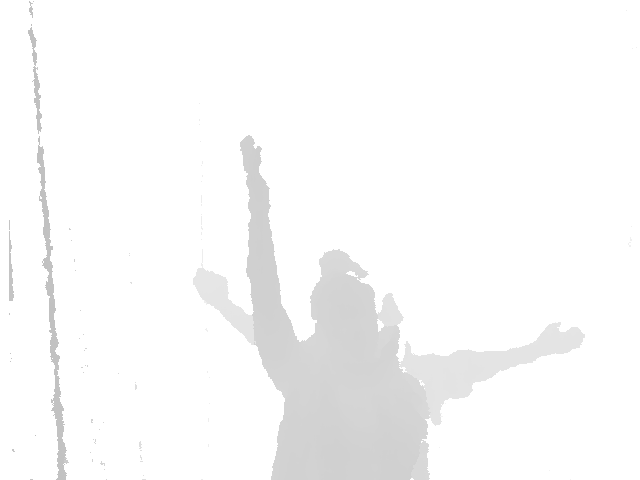hand: (192, 268, 227, 311), (239, 135, 263, 175)
head: (312, 249, 377, 352)
person: (239, 135, 431, 479), (192, 268, 585, 426)
